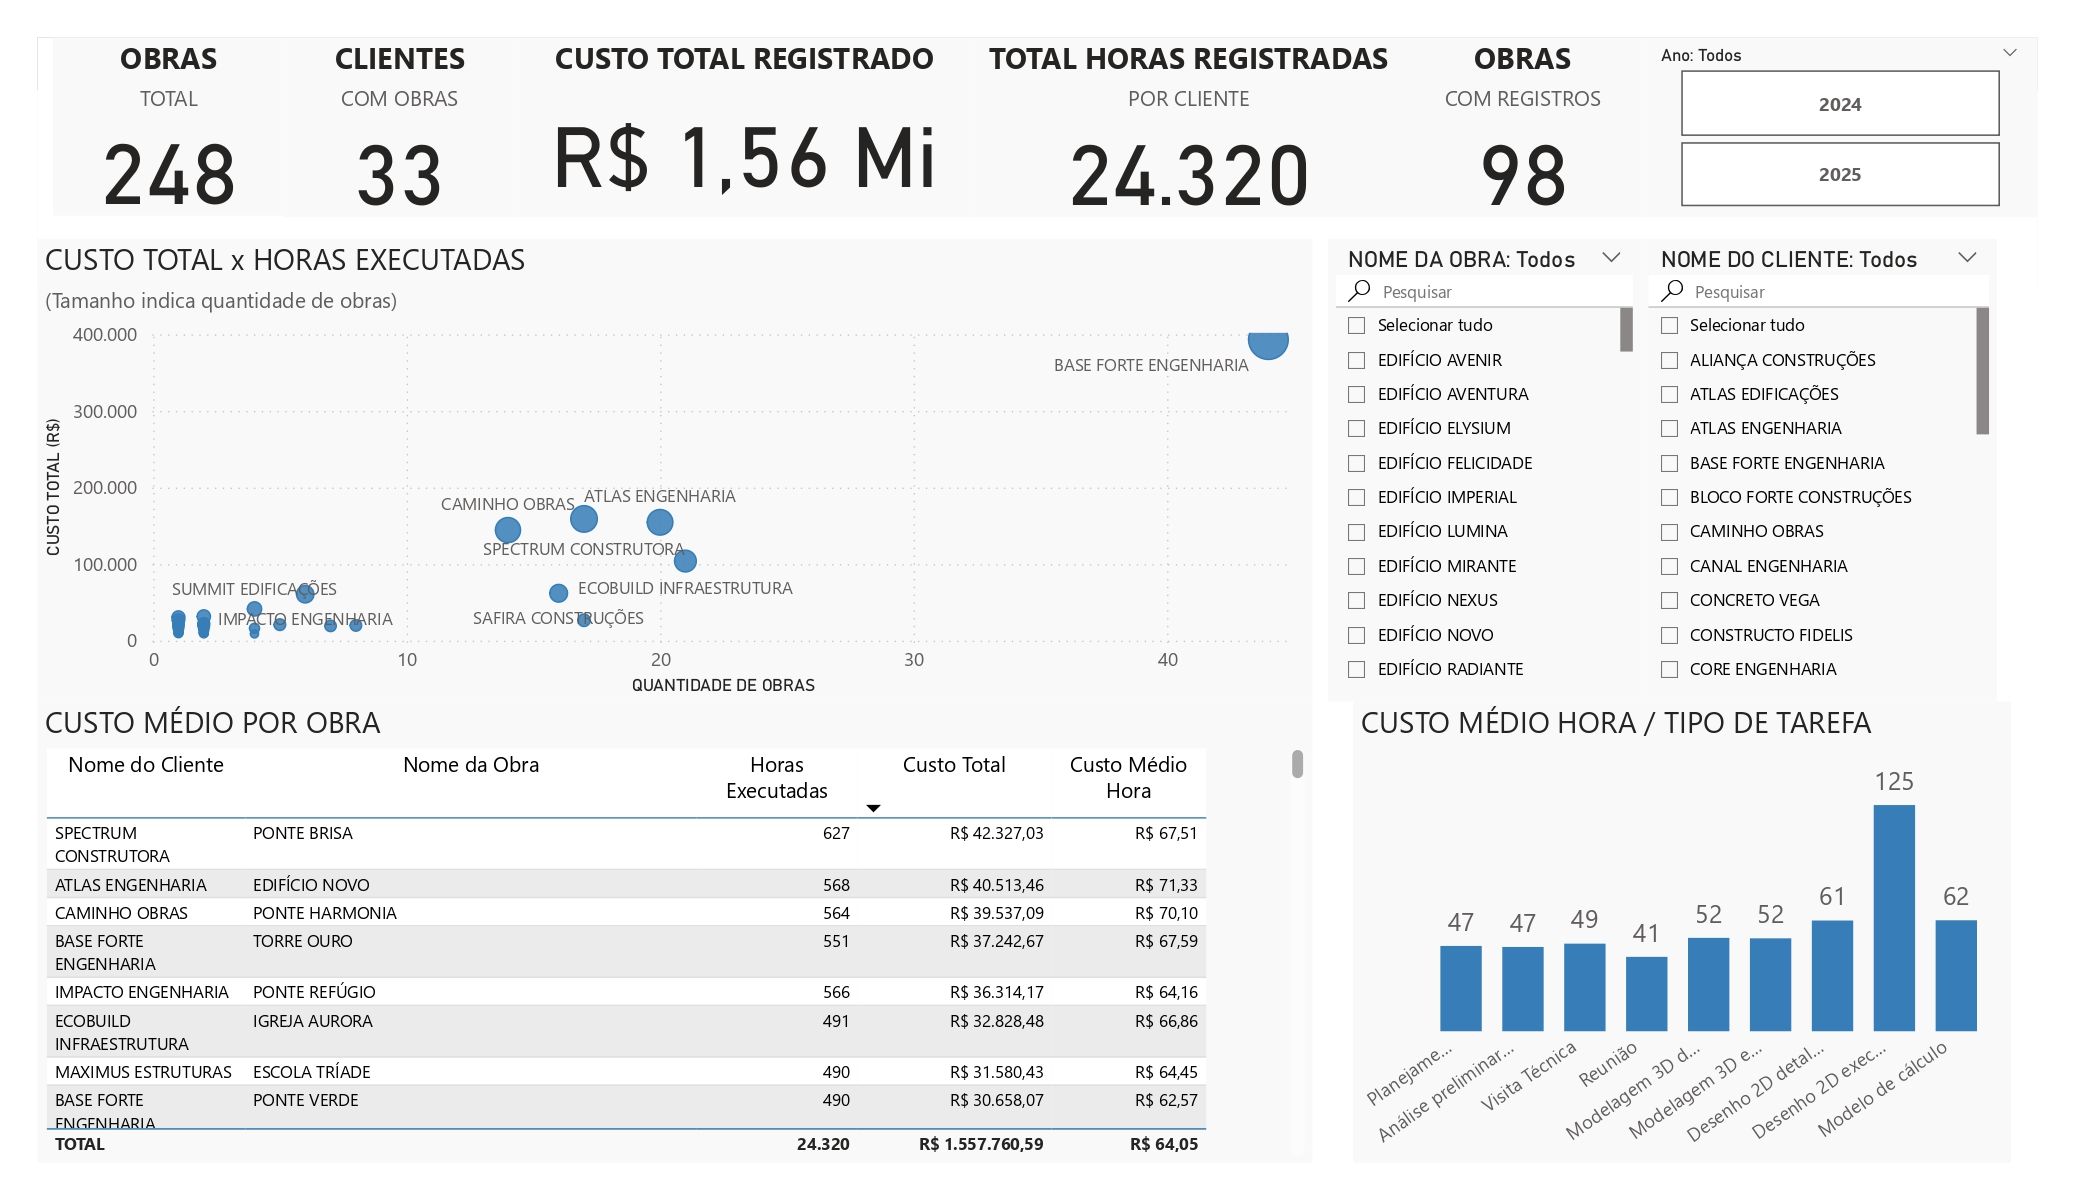

Layout of this report page (visuals, bound fields, positions):
{"tool":"powerbi","page":{"name":"2 Cliente","canvas":[1280,720],"ordinal":1},"visuals":[{"type":"slicer","fields":{"Values":["Calendario.Ano"]},"box":[1025.7,0,254.3,114.5],"z":0},{"type":"card","title":"OBRAS","fields":{"Values":["Count(Obra.nome_obra)"]},"box":[9.6,0,148,114.3],"z":1000},{"type":"card","title":"CUSTO TOTAL REGISTRADO","fields":{"Values":["Registro.CustoTotalPorObra"]},"box":[305.7,0,293.7,114.5],"z":2000},{"type":"card","title":"TOTAL HORAS REGISTRADAS","fields":{"Values":["Obra.HorasExecutadas"]},"box":[599,0,276.4,114.5],"z":3000},{"type":"card","title":"CLIENTES","fields":{"Values":["Count(Cliente.nome_cliente)"]},"box":[157.6,0,148.2,114.5],"z":4000},{"type":"card","title":"OBRAS","fields":{"Values":["Obra.ObrasComRegistros"]},"box":[875.4,0,150.3,114.5],"z":5000},{"type":"slicer","title":"NOME DO CLIENTE","fields":{"Values":["Cliente.nome_cliente"]},"box":[1026,129.3,228.1,295.5],"z":6000},{"type":"tableEx","title":"CUSTO MÉDIO POR OBRA","fields":{"Values":["Cliente.nome_cliente","Obra.nome_obra","Obra.HorasExecutadas","Registro.CustoTotalPorObra","Registro.CustoMedioHoraObra","select"]},"box":[0,424.7,816.2,295.8],"z":7000},{"type":"slicer","title":"NOME DO CLIENTE","fields":{"Values":["Obra.nome_obra"]},"box":[826,129.3,199.7,295.3],"z":8000},{"type":"scatterChart","title":"CUSTO TOTAL x HORAS EXECUTADAS","fields":{"X":["CountNonNull(Obra.nome_obra)"],"Y":["Registro.CustoTotalPorObra"],"Category":["Cliente.nome_cliente"],"Size":["Obra.HorasExecutadas"]},"box":[0,128.9,816.2,295.8],"z":9000},{"type":"clusteredColumnChart","title":"CUSTO MÉDIO HORA / TIPO DE TAREFA","fields":{"Category":["TipoTarefa.nome_tipo"],"Y":["Registro.CustoMedioTarefa"]},"box":[842.3,424.8,421.1,295.5],"z":10000}]}

Visuals, with their boxes in screenshot pixels (x1, y1, x2, y2):
slicer - Calendario.Ano: <region>1640, 38, 2038, 216</region>
"OBRAS" card: <region>52, 38, 284, 216</region>
"CUSTO TOTAL REGISTRADO" card: <region>515, 38, 974, 216</region>
"TOTAL HORAS REGISTRADAS" card: <region>973, 38, 1405, 216</region>
"CLIENTES" card: <region>284, 38, 515, 216</region>
"OBRAS" card: <region>1405, 38, 1640, 216</region>
"NOME DO CLIENTE" slicer: <region>1641, 240, 1997, 701</region>
"CUSTO MÉDIO POR OBRA" tableEx: <region>38, 701, 1313, 1162</region>
"NOME DO CLIENTE" slicer: <region>1328, 240, 1640, 701</region>
"CUSTO TOTAL x HORAS EXECUTADAS" scatterChart: <region>38, 239, 1313, 701</region>
"CUSTO MÉDIO HORA / TIPO DE TAREFA" clusteredColumnChart: <region>1354, 701, 2012, 1162</region>
